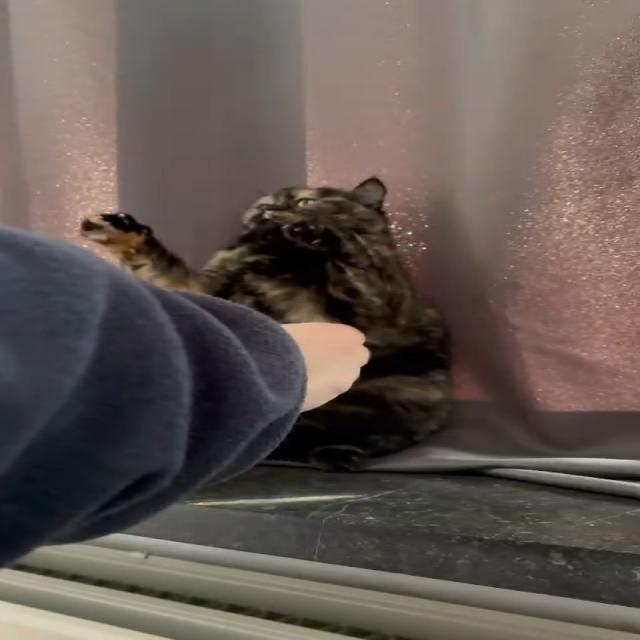authorized: (77, 176, 455, 472)
